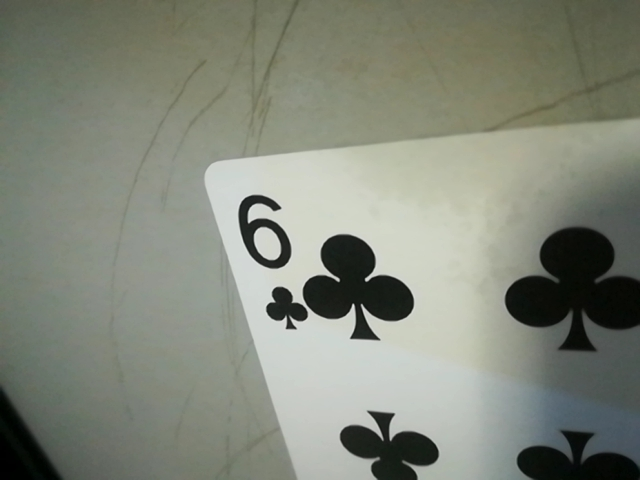mh 6: (228, 181, 306, 340)
